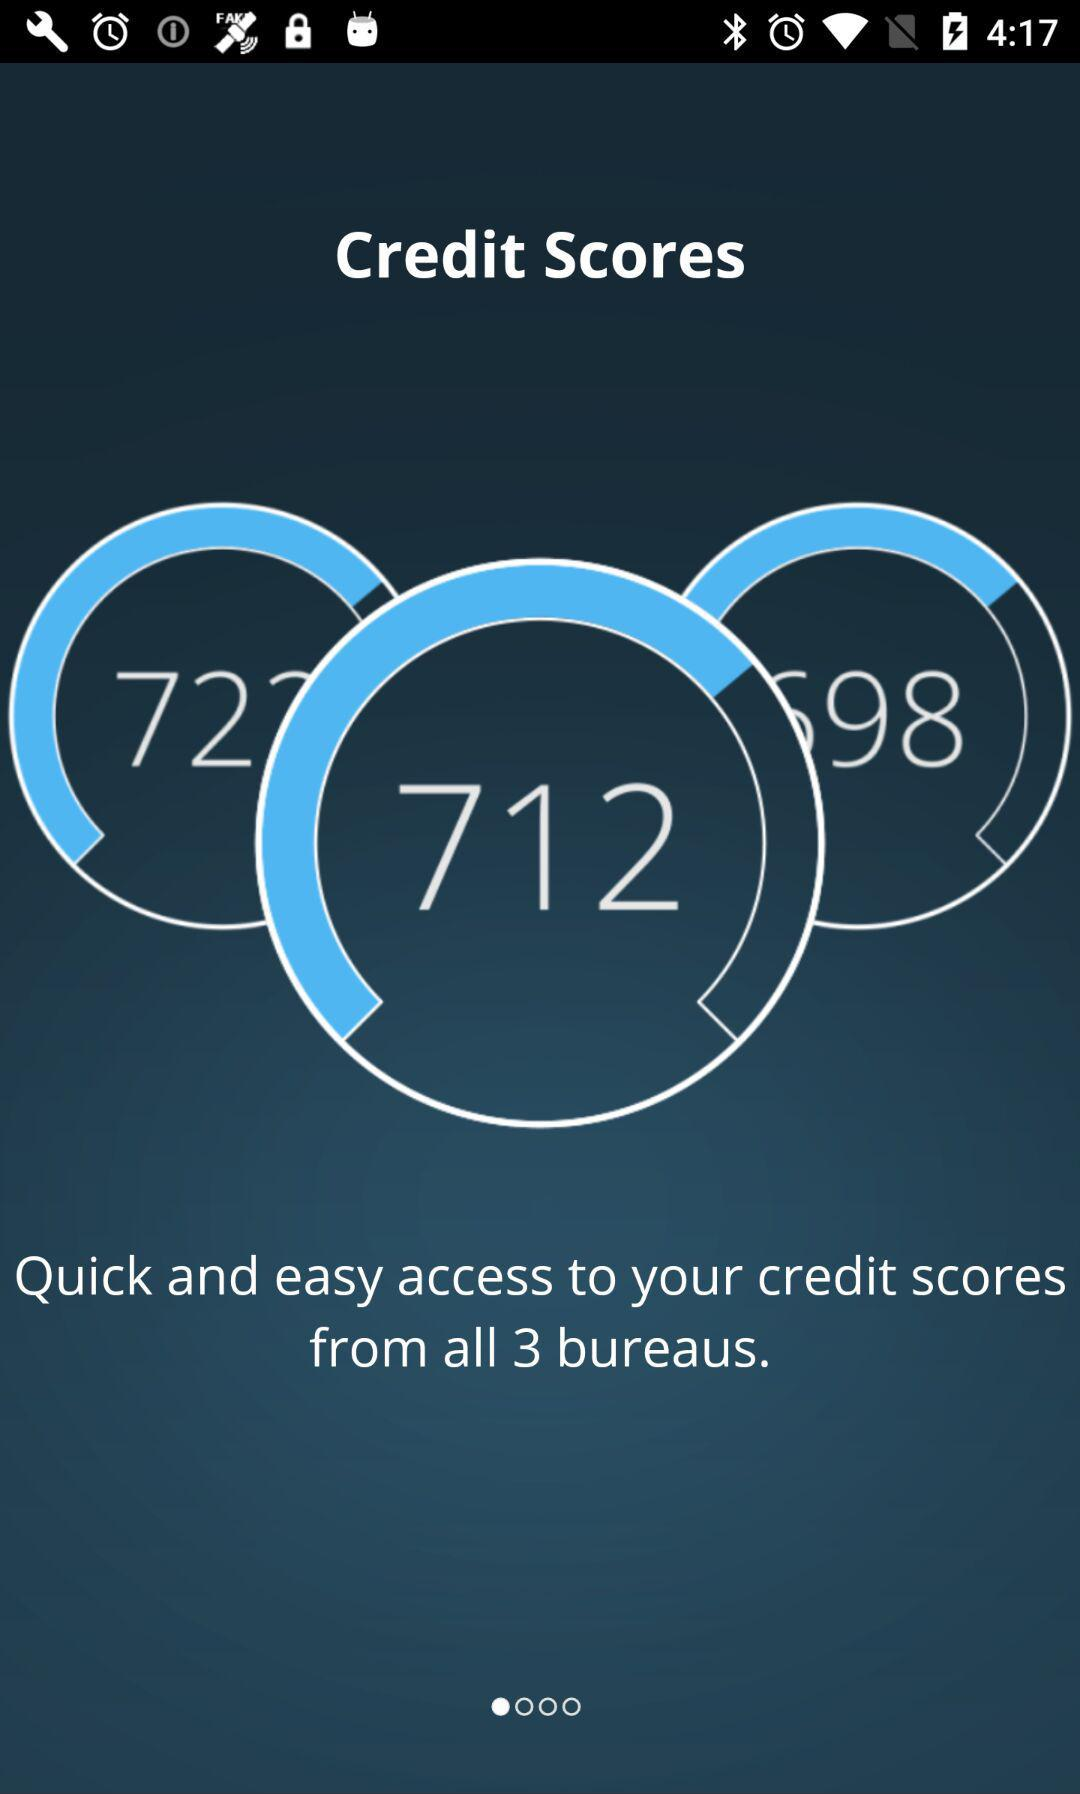Image: (6, 501, 1074, 1135)
PageIndicator: (489, 1697, 583, 1718)
Text: (15, 1252, 1068, 1371), (336, 227, 746, 281)
UpperTaskBar: (1, 1, 1080, 64)
